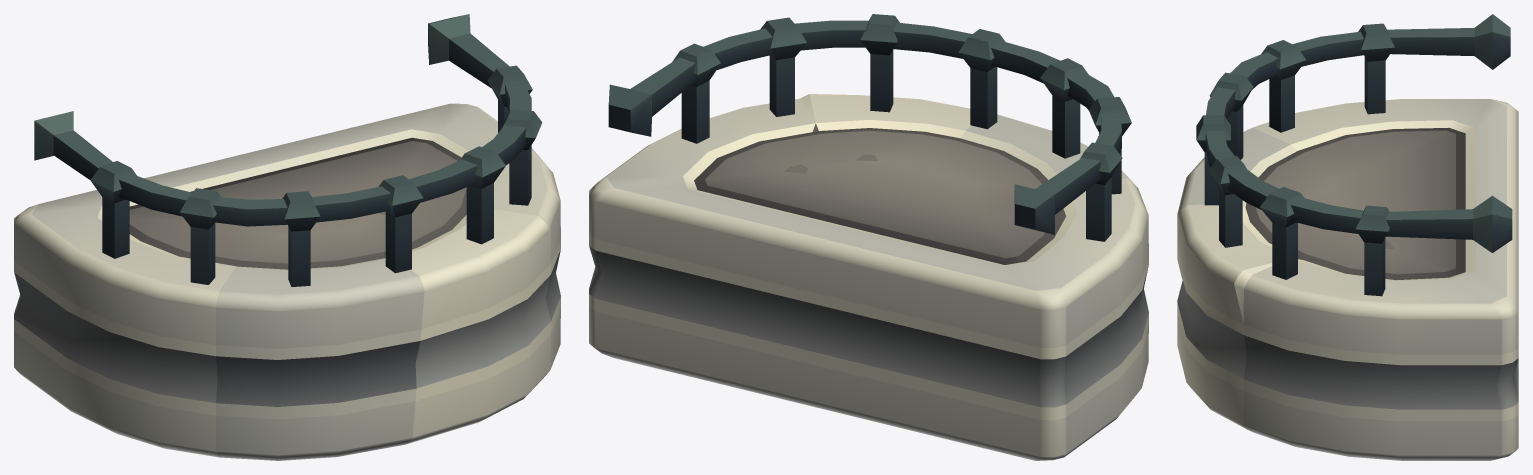
The model's file is balcony1_LOD_setup.fbx.
3 views of the same model, side by side, from view 1: azimuth 30°, elevation 25°; view 2: azimuth 150°, elevation 25°; view 3: azimuth 270°, elevation 25° (orthographic). The views are drawn at different scales.
Visible parts, largest first — view 1: balcony1_LOD0; view 2: balcony1_LOD0; view 3: balcony1_LOD0.
Boxes of the visible parts, x1=… form: balcony1_LOD0: x1=14, y1=14, x2=560, y2=460; balcony1_LOD0: x1=589, y1=14, x2=1148, y2=460; balcony1_LOD0: x1=1177, y1=14, x2=1518, y2=460.
Size of what is drawn, in the model's own units: 315 by 167 by 211.
